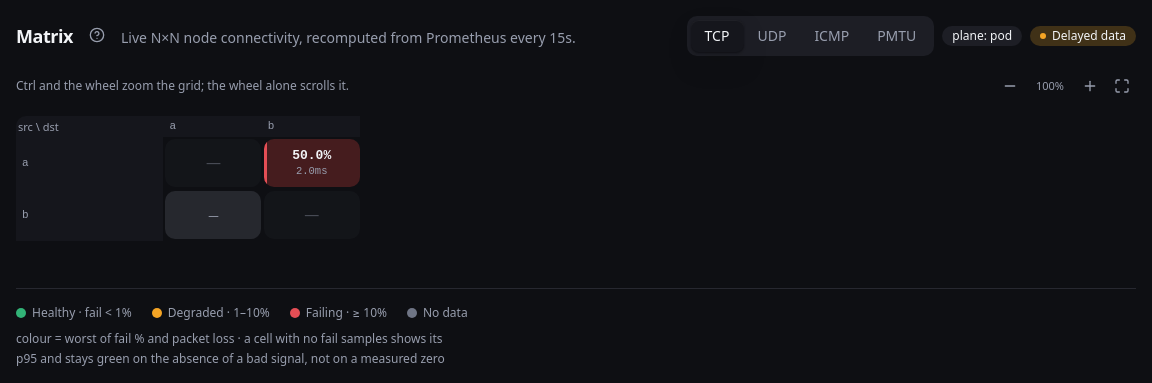
Test case: MatrixPage › opens a hover tooltip with the pair's figures
Hover over the link with aria-label "a → b: fail 50.0%, RTT p95 2.0ms".
mouse_move(312, 163)  # box 264,139 -> 360,187
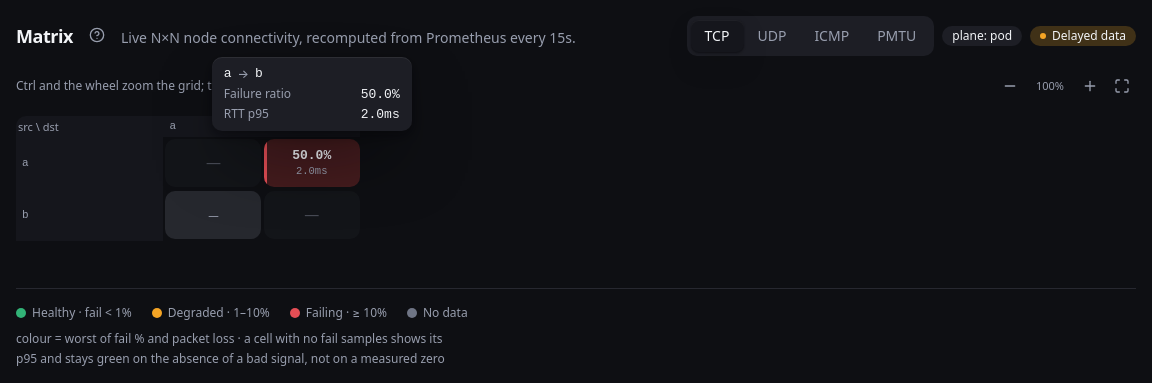
Result: the tooltip shows "Failure ratio" at 224,85 -> 291,102
Result: the tooltip shows "50.0%" at 361,87 -> 400,102
Result: the tooltip shows "RTT p95" at 224,105 -> 269,122
Move the pointer off the link with aria-label "a → b: fail 50.0%, RTT p95 2.0ms", box 264,139 -> 360,187
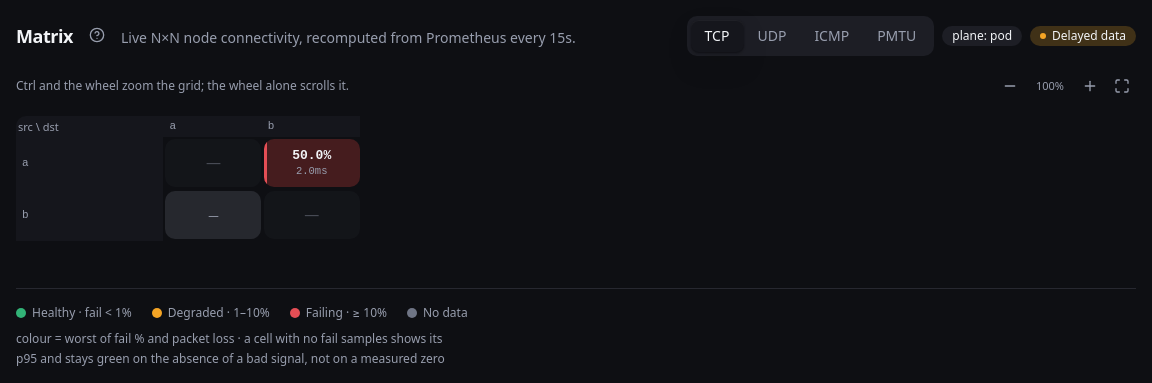
Result: the tooltip "a → b Failure ratio 50.0% RTT p95 2.0ms" is gone
